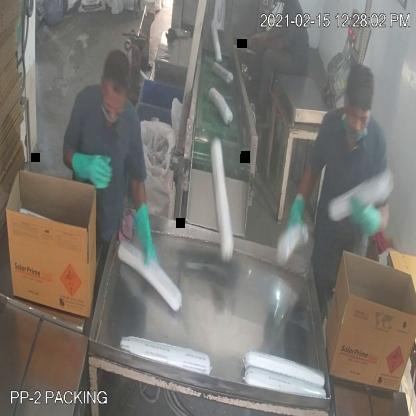glove: (118, 191, 161, 273), (67, 144, 118, 199), (344, 190, 388, 253), (276, 184, 316, 248)
